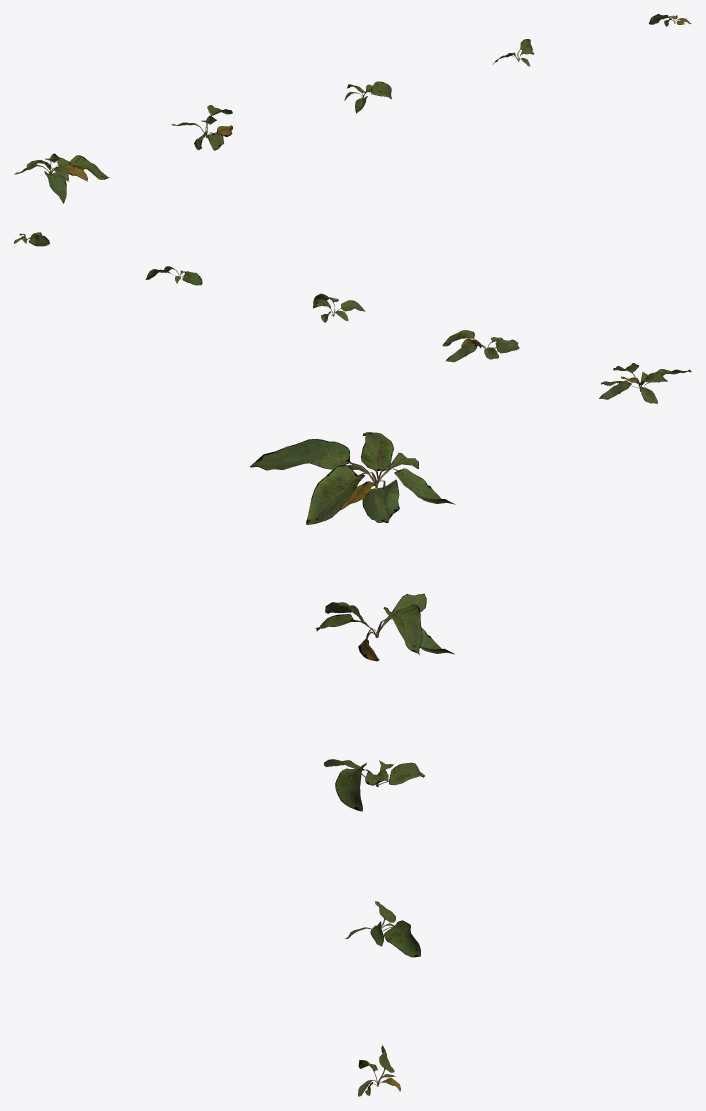
Rendered from weeds.glb.
3 renders of one model, top to bottom at view 1: azimuth 30°, elevation 25°; view 2: azimuth 150°, elevation 25°; view 3: azimuth 270°, elevation 25°, orthographic. The views are drawn at different scales.
Parts seen in each view (by area): view 1: weed_plant_02_a_LOD0, weed_plant_02_b_LOD0, weed_plant_02_c_LOD0, weed_plant_02_d_LOD0; view 2: weed_plant_02_a_LOD0, weed_plant_02_b_LOD0, weed_plant_02_c_LOD0, weed_plant_02_d_LOD0, weed_plant_02_e_LOD0; view 3: weed_plant_02_a_LOD0, weed_plant_02_b_LOD0, weed_plant_02_c_LOD0, weed_plant_02_d_LOD0.
Part boxes in pixels (x1,y1,x2,y2): weed_plant_02_a_LOD0: (14,153,109,203); weed_plant_02_b_LOD0: (171,105,232,150); weed_plant_02_c_LOD0: (344,81,391,113); weed_plant_02_d_LOD0: (493,39,534,66); weed_plant_02_a_LOD0: (599,363,691,403); weed_plant_02_b_LOD0: (442,330,519,362); weed_plant_02_c_LOD0: (313,293,365,322); weed_plant_02_d_LOD0: (145,266,202,285); weed_plant_02_e_LOD0: (14,232,49,246); weed_plant_02_a_LOD0: (250,432,455,524); weed_plant_02_b_LOD0: (315,593,454,661); weed_plant_02_c_LOD0: (324,759,424,811); weed_plant_02_d_LOD0: (345,901,420,957).
Bounding box in the file's own units: 2.13 × 0.0747 × 0.2909.
1 material, 1 textured.
